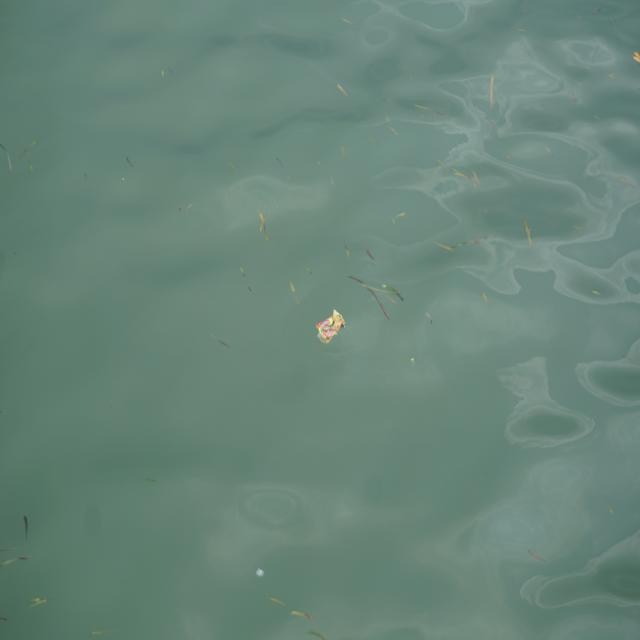Bungkus Makanan: (315, 306, 348, 352)
